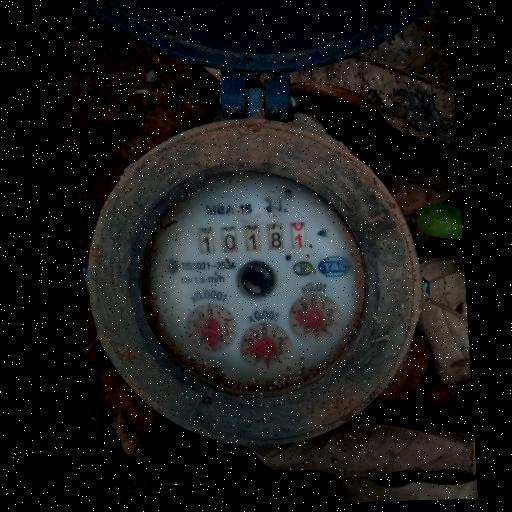0: (221, 224, 238, 253)
1: (199, 226, 216, 255), (291, 220, 308, 249), (244, 224, 261, 252)
8: (268, 222, 285, 250)
border_water_meter_number: (199, 219, 308, 255)
